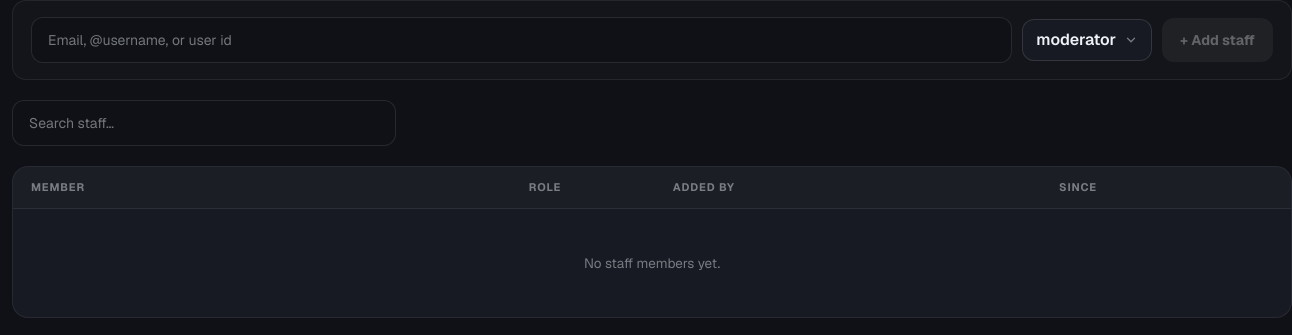
Test: StaffTab › add staff › shows the matches dropdown — does not auto-resolve — for a single SUBSTRING-only hit
Expected: the text "No staff members yet." is shown, [584,254,720,272]
Type "bo" into the field named "Email, username, or user id of the user to add as staff".
click(522, 40); type("bo")  # box [31,17,1012,63]
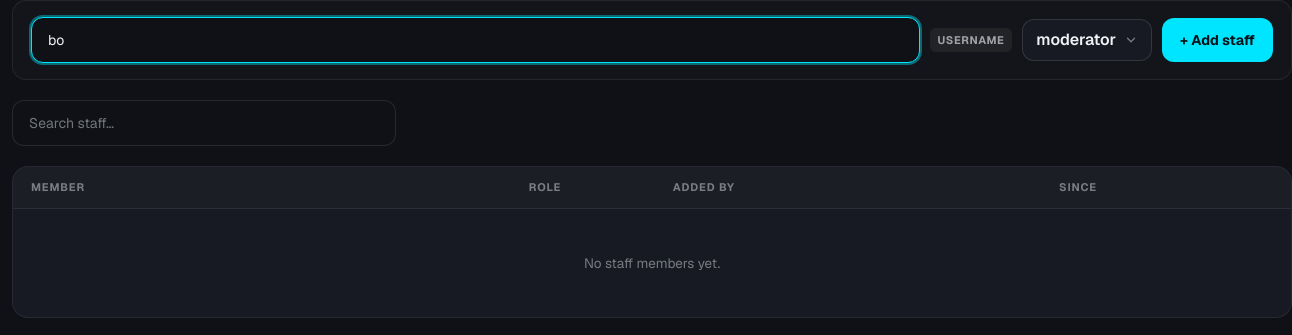
Click the button "+ Add staff".
click(1218, 40)  # box [1162,18,1273,62]
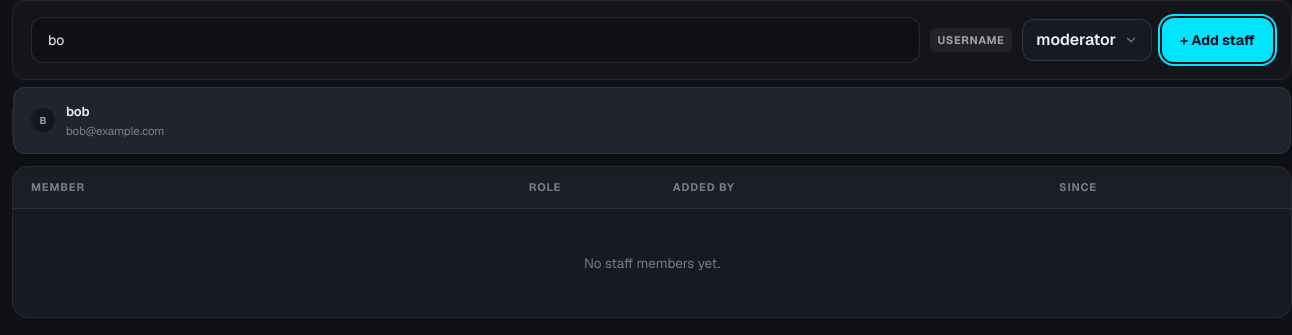
Expected: the option "B bob bob@example.com" is shown, [20,94,1284,147]
